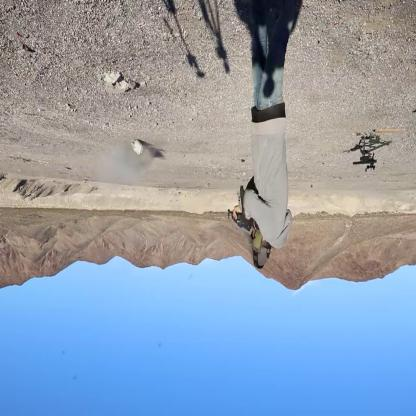long weapon: (344, 134, 385, 180), (223, 188, 261, 232)
